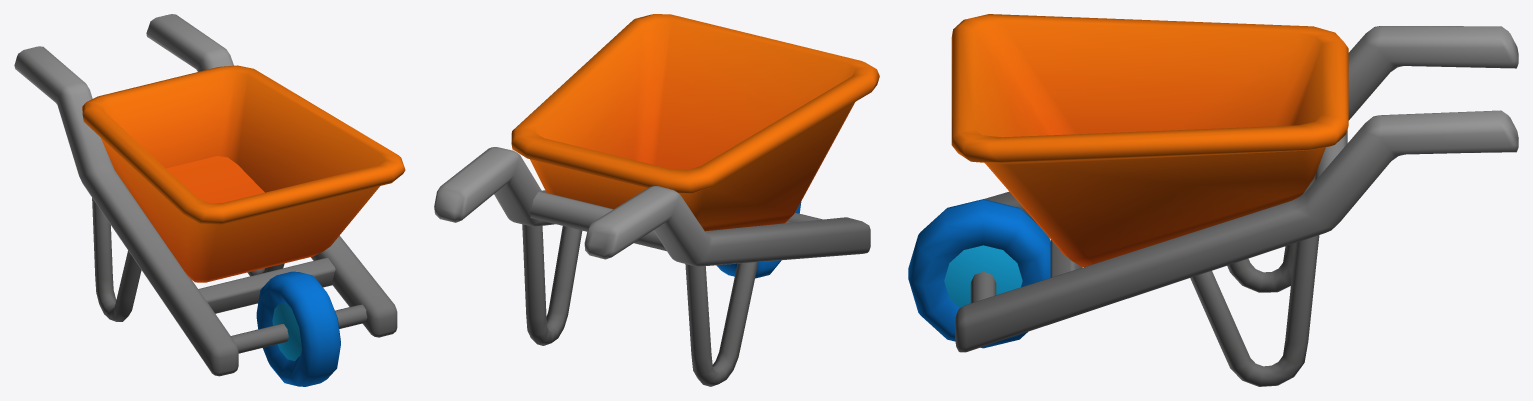
Rendered from Farm_Tool_Trolley_01.fbx.
The picture shows the model from 3 angles, left to right: view 1: azimuth 30°, elevation 25°; view 2: azimuth 150°, elevation 25°; view 3: azimuth 270°, elevation 25°; orthographic projection. The views are drawn at different scales.
Parts seen in each view (by area): view 1: Farm_Tool_Trolley_01, Farm_Tool_Trolley_01_Wheel; view 2: Farm_Tool_Trolley_01, Farm_Tool_Trolley_01_Wheel; view 3: Farm_Tool_Trolley_01, Farm_Tool_Trolley_01_Wheel.
Boxes of the visible parts, x1,y1,x2,y2 form: Farm_Tool_Trolley_01: (14, 14, 405, 376); Farm_Tool_Trolley_01_Wheel: (256, 271, 340, 386); Farm_Tool_Trolley_01: (434, 14, 879, 386); Farm_Tool_Trolley_01_Wheel: (716, 202, 801, 278); Farm_Tool_Trolley_01: (951, 14, 1518, 386); Farm_Tool_Trolley_01_Wheel: (908, 199, 1050, 348).
Bounding box in the file's own units: 94.07 × 85.55 × 177.
